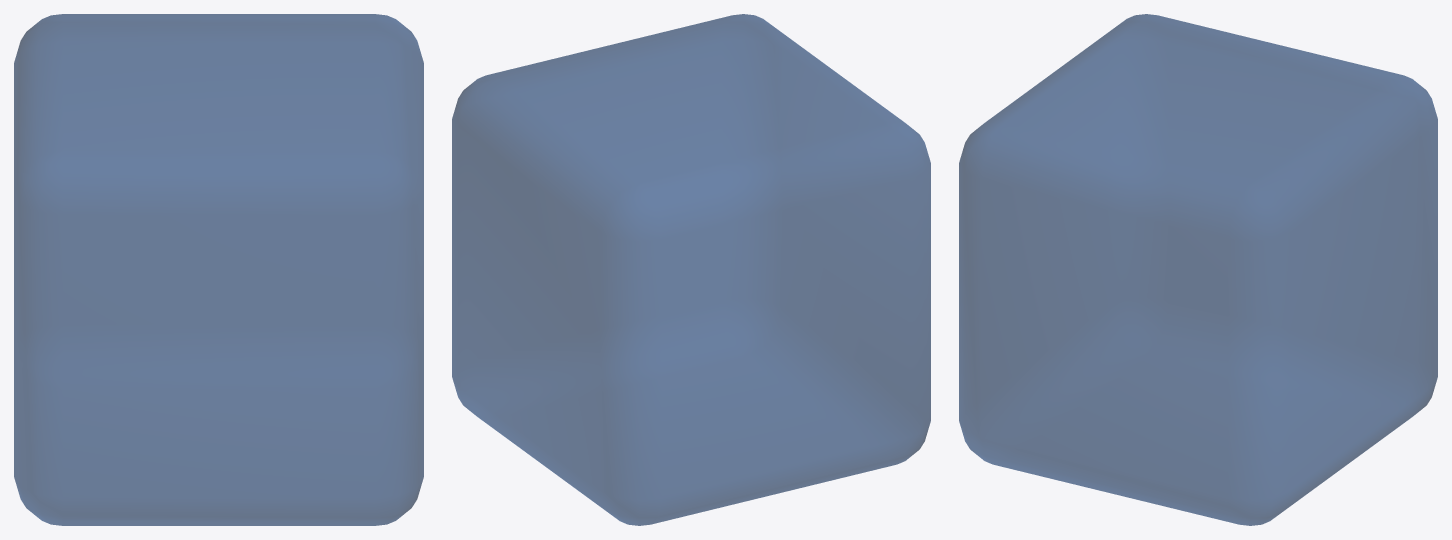
File: RoundedCube.FBX
3 renders of one model, left to right at view 1: azimuth 30°, elevation 25°; view 2: azimuth 150°, elevation 25°; view 3: azimuth 270°, elevation 25°, orthographic. The views are drawn at different scales.
Parts seen in each view (by area): view 1: ChamferBox009; view 2: ChamferBox009; view 3: ChamferBox009.
Boxes of the visible parts, <box> form: ChamferBox009: <box>14,14,423,525</box>; ChamferBox009: <box>452,14,930,525</box>; ChamferBox009: <box>959,14,1437,525</box>.
Bounding box in the file's own units: 48.09 × 37.62 × 48.09.
